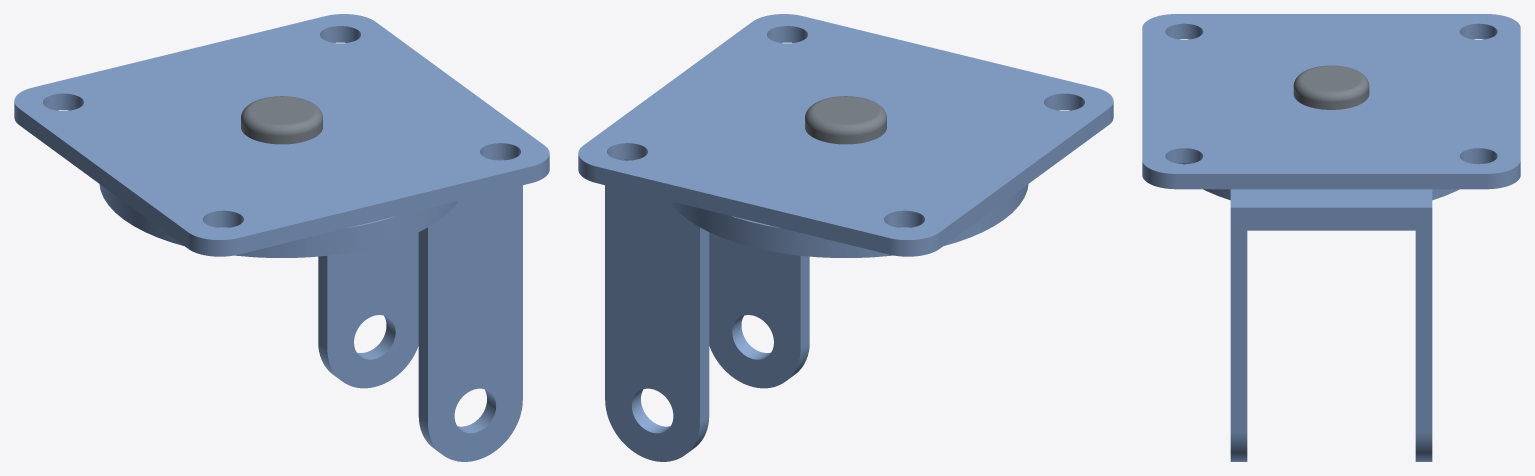
File: step_19.glb
3 views of the same model, side by side, from view 1: azimuth 30°, elevation 25°; view 2: azimuth 150°, elevation 25°; view 3: azimuth 270°, elevation 25° (orthographic). The views are drawn at different scales.
Visible parts, largest first — view 1: part__top plate, part__fork, part__king pin rivet; view 2: part__top plate, part__fork, part__king pin rivet; view 3: part__top plate, part__fork, part__king pin rivet.
Part boxes in pixels (left/top/right/bottom): part__top plate: left=14, top=14, right=549, bottom=256; part__fork: left=99, top=159, right=522, bottom=461; part__king pin rivet: left=241, top=96, right=322, bottom=144; part__top plate: left=578, top=14, right=1113, bottom=256; part__fork: left=605, top=159, right=1028, bottom=461; part__king pin rivet: left=805, top=96, right=886, bottom=144; part__top plate: left=1142, top=14, right=1520, bottom=189; part__fork: left=1179, top=163, right=1483, bottom=461; part__king pin rivet: left=1293, top=65, right=1369, bottom=109.
Bounding box in the file's own units: 94 × 83 × 90.
